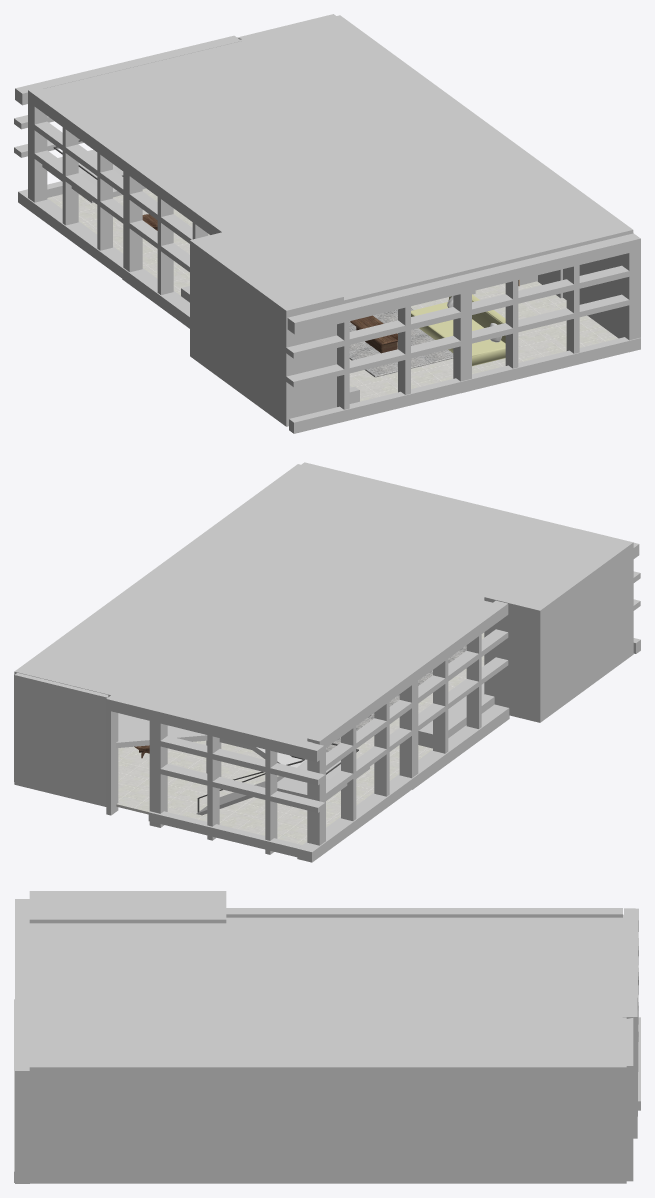
File: House.fbx
3 views of the same model, one above another, from view 1: azimuth 30°, elevation 25°; view 2: azimuth 150°, elevation 25°; view 3: azimuth 270°, elevation 25° (orthographic). The views are drawn at different scales.
Visible parts, largest first — view 1: House; view 2: House; view 3: House.
Boxes of the visible parts, left/top/right/bottom form: House: left=14, top=14, right=640, bottom=433; House: left=14, top=462, right=640, bottom=862; House: left=14, top=891, right=640, bottom=1183.
Bounding box in the file's own units: 1782 × 603 × 2737.
